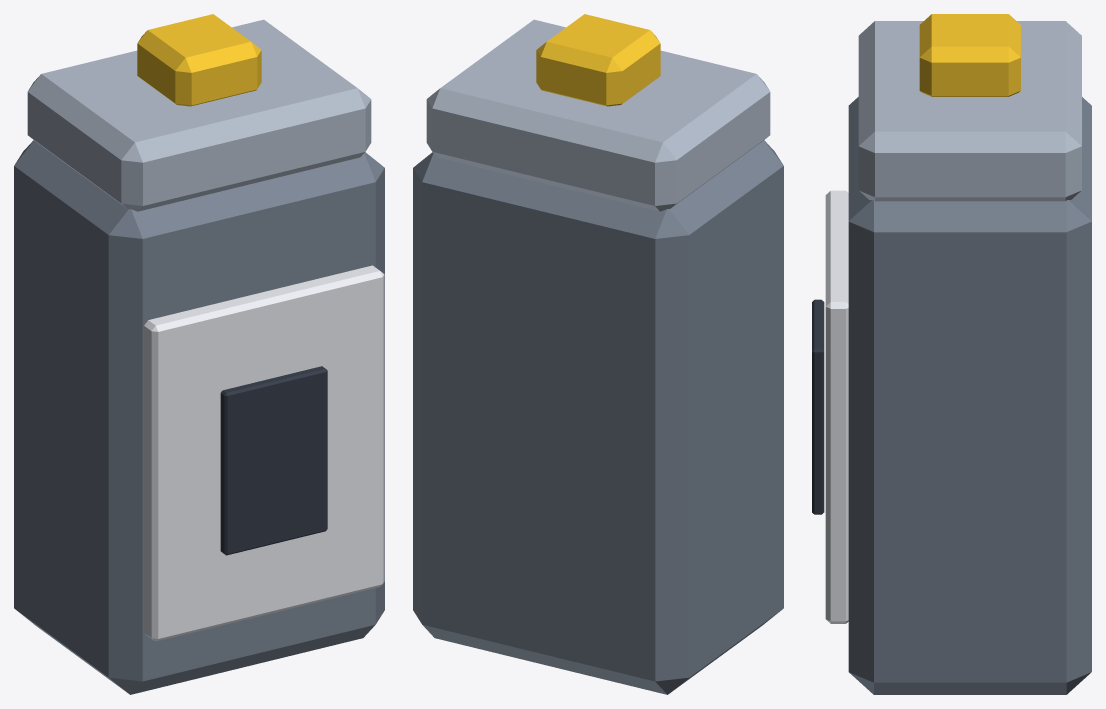
File: Throwable_Smoke_v001.fbx
The picture shows the model from 3 angles, left to right: view 1: azimuth 30°, elevation 25°; view 2: azimuth 150°, elevation 25°; view 3: azimuth 270°, elevation 25°; orthographic projection.
Parts seen in each view (by area): view 1: Throwable_Smoke__RECEIVER_MESH; view 2: Throwable_Smoke__RECEIVER_MESH; view 3: Throwable_Smoke__RECEIVER_MESH.
Part boxes in pixels (x1=…): Throwable_Smoke__RECEIVER_MESH: x1=14, y1=14, x2=384, y2=694; Throwable_Smoke__RECEIVER_MESH: x1=413, y1=14, x2=783, y2=694; Throwable_Smoke__RECEIVER_MESH: x1=812, y1=14, x2=1091, y2=694.
Size of the model in its own units: 0.32 by 0.66 by 0.276.
